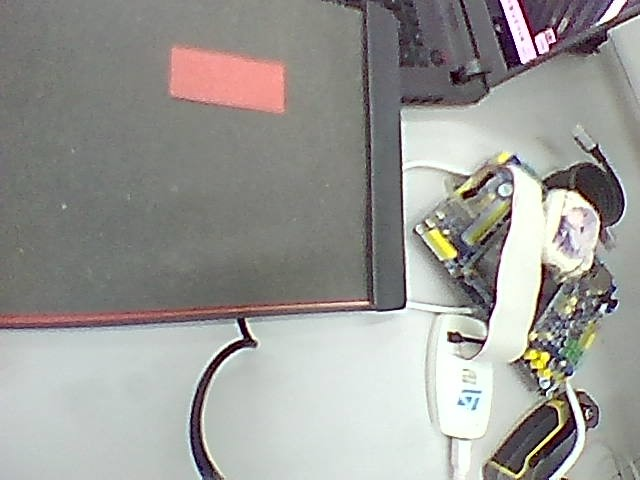card: (169, 46, 286, 113)
